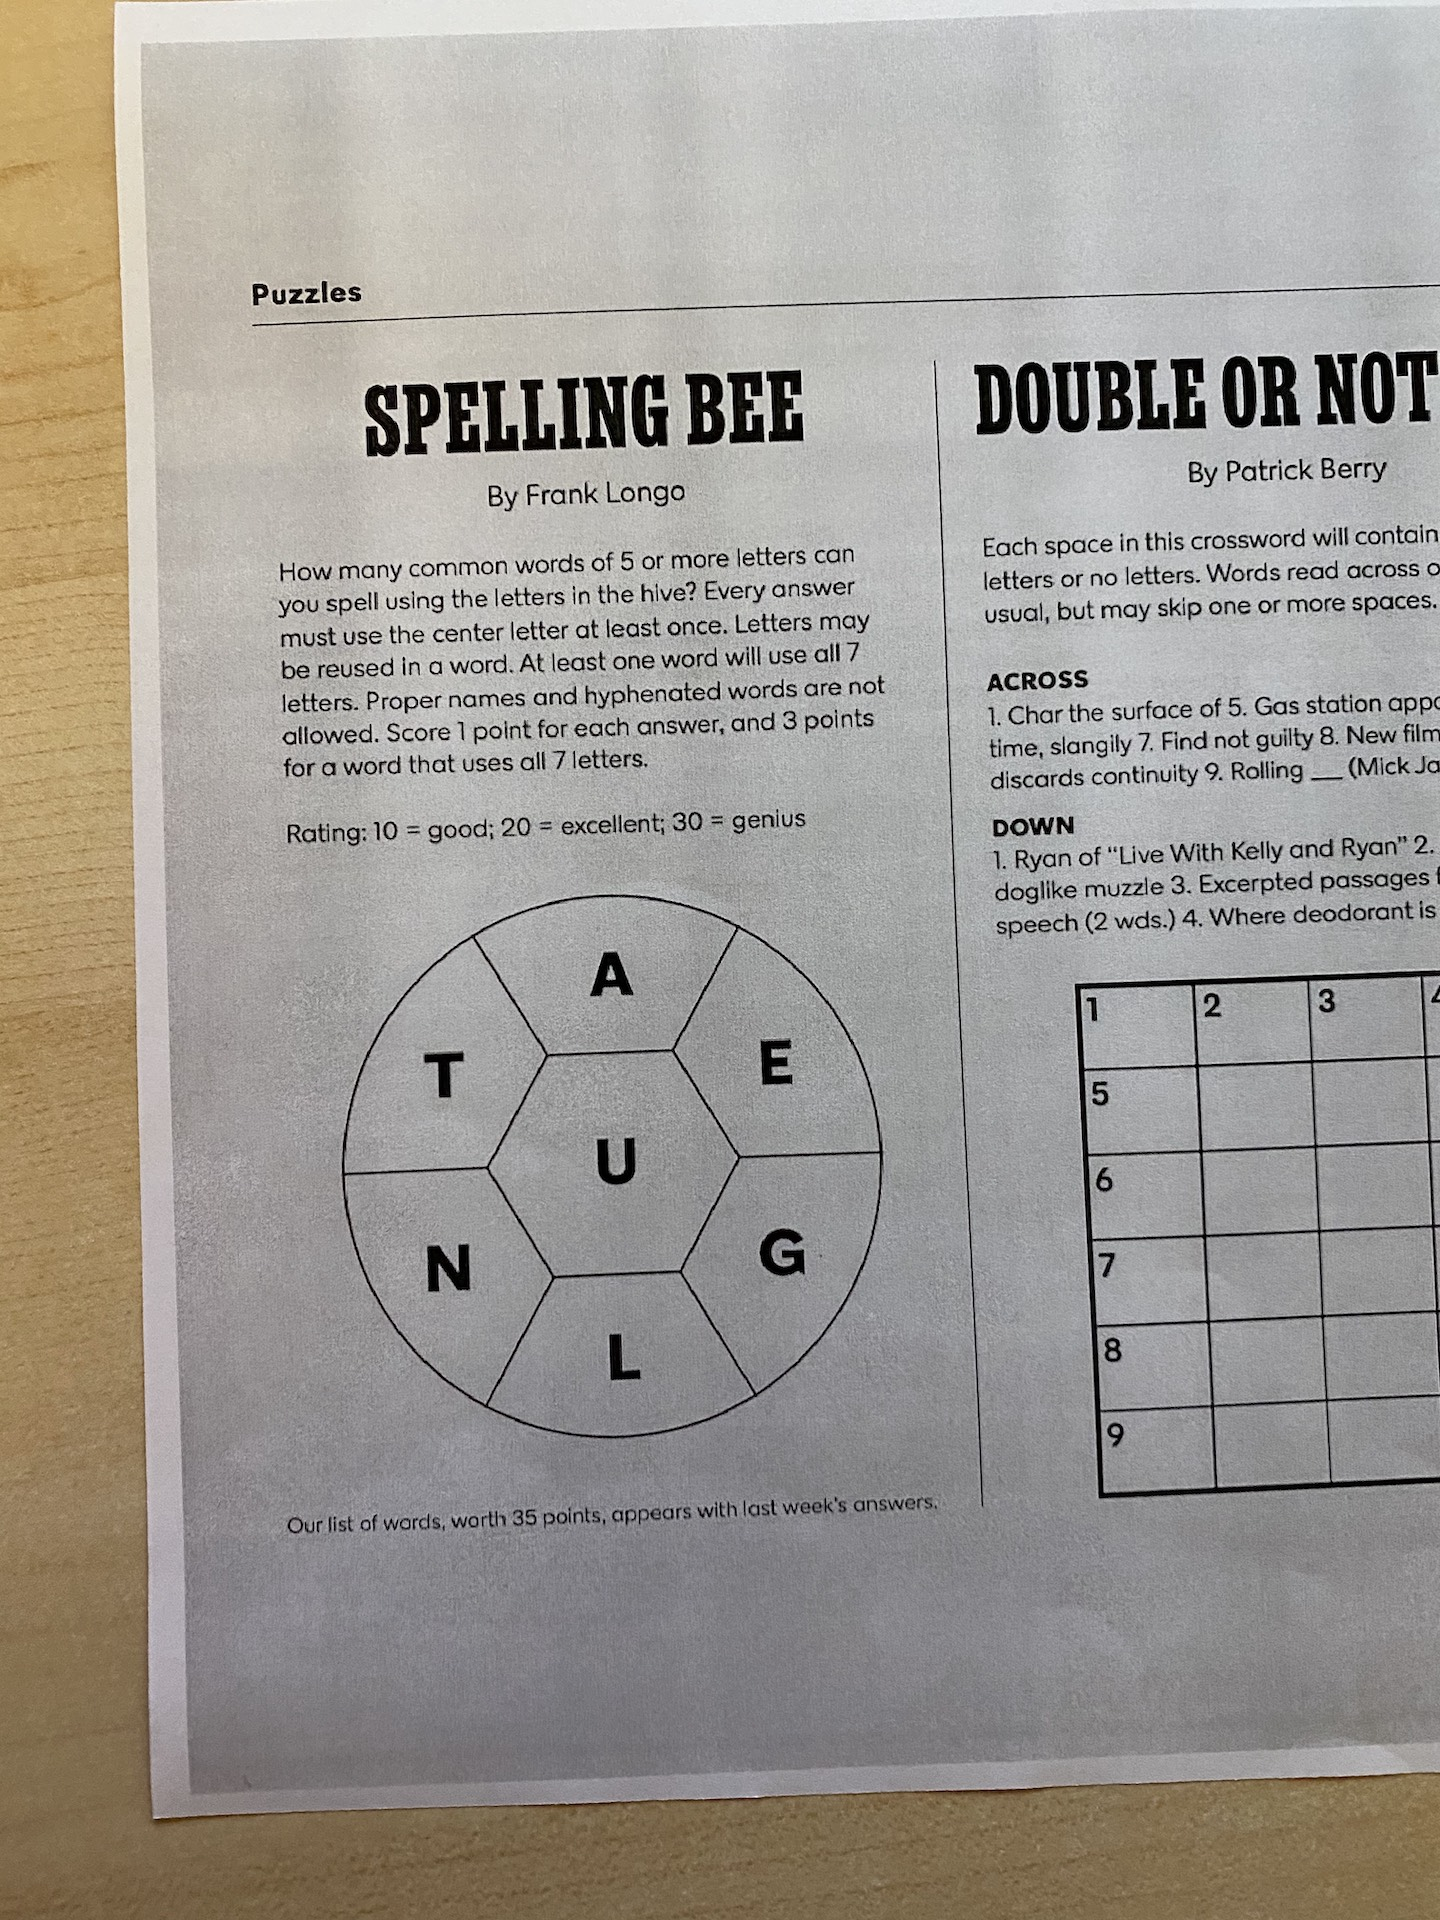Board: (312, 880, 906, 1460)
